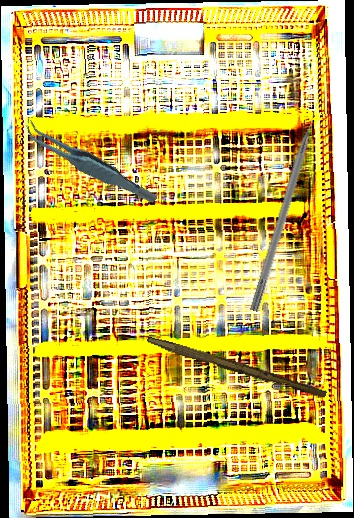Pusher: (249, 99, 325, 313)
Scalpel Handle: (144, 335, 329, 400)
Tissue Forceps: (21, 98, 159, 229)
